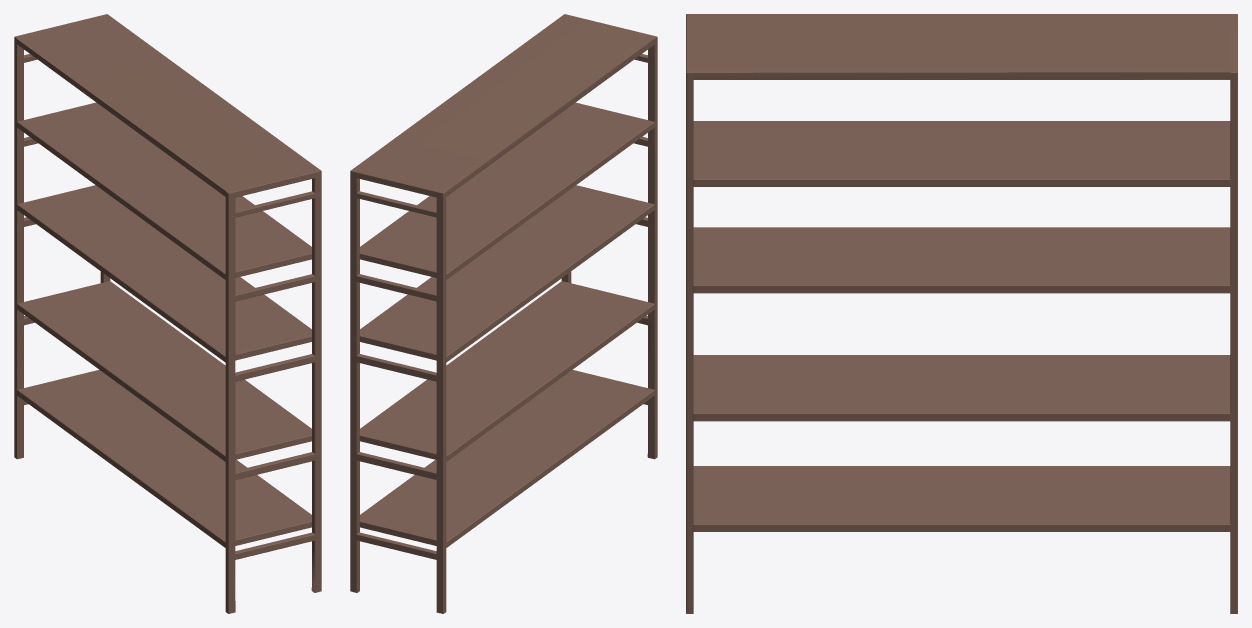
File: SM_Shelves_01_SM_Shelves_01.fbx
3 views of the same model, side by side, from view 1: azimuth 30°, elevation 25°; view 2: azimuth 150°, elevation 25°; view 3: azimuth 270°, elevation 25° (orthographic). The views are drawn at different scales.
Visible parts, largest first — view 1: SM_Shelves_01_SM_Shelves_01; view 2: SM_Shelves_01_SM_Shelves_01; view 3: SM_Shelves_01_SM_Shelves_01.
Boxes of the visible parts, x1=… form: SM_Shelves_01_SM_Shelves_01: x1=14, y1=14, x2=321, y2=613; SM_Shelves_01_SM_Shelves_01: x1=350, y1=14, x2=657, y2=613; SM_Shelves_01_SM_Shelves_01: x1=686, y1=14, x2=1237, y2=613.
Size of the model in its own units: 50.29 by 200 by 217.
1 material, 1 textured.
